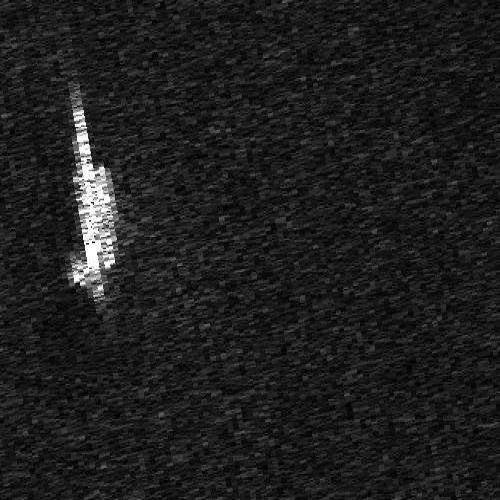ship: (69, 94, 119, 302)
